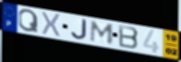4: (142, 29, 161, 55)
B: (118, 24, 140, 50)
J: (69, 18, 88, 41)
M: (89, 20, 115, 46)
Q: (17, 9, 39, 34)
X: (41, 11, 62, 39)
